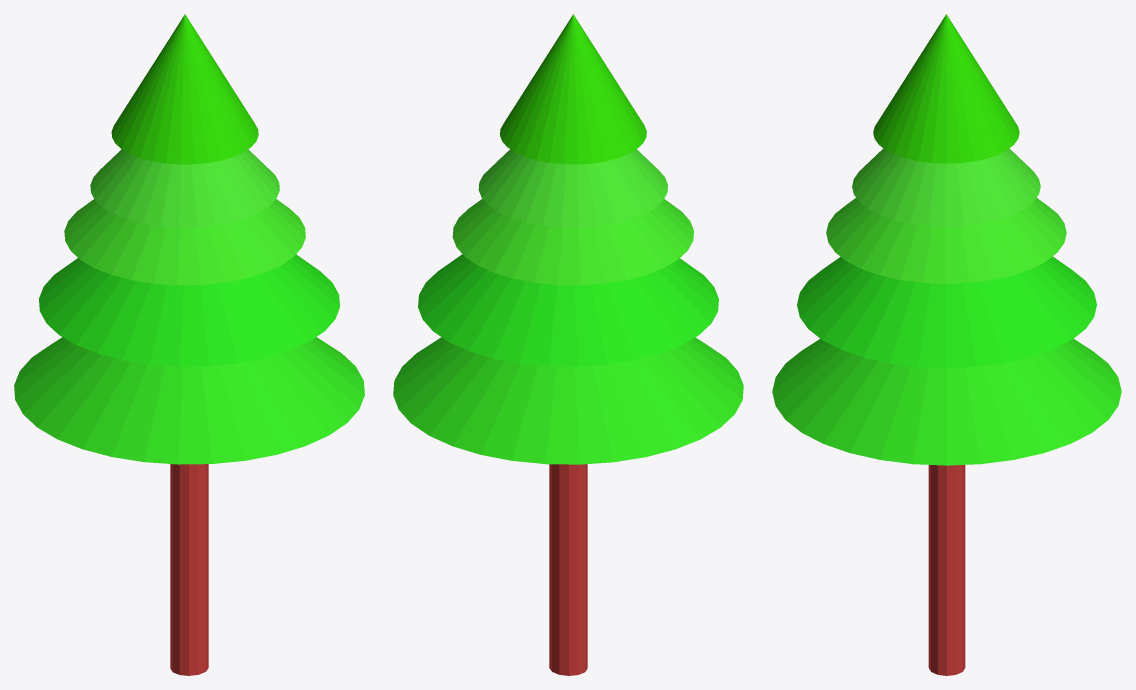
The model's file is tree1.glb.
3 views of the same model, side by side, from view 1: azimuth 30°, elevation 25°; view 2: azimuth 150°, elevation 25°; view 3: azimuth 270°, elevation 25° (orthographic).
Parts seen in each view (by area): view 1: Cone, Cone.001, Cone.002, Cone.004, Cone.003, Cylinder; view 2: Cone, Cone.001, Cone.002, Cone.004, Cone.003, Cylinder; view 3: Cone, Cone.001, Cone.002, Cone.004, Cone.003, Cylinder.
Part boxes in pixels (x1,y1,x2,y2): Cone: (14,337,364,464); Cone.001: (39,254,339,366); Cone.002: (64,199,305,285); Cone.004: (111,14,258,164); Cone.003: (90,149,279,227); Cylinder: (170,464,208,675); Cone: (393,337,743,464); Cone.001: (418,254,718,366); Cone.002: (452,199,693,285); Cone.004: (500,14,646,164); Cone.003: (478,149,667,227); Cylinder: (549,464,587,675); Cone: (772,338,1121,465); Cone.001: (797,256,1096,368); Cone.002: (826,198,1066,283); Cone.004: (873,14,1019,163); Cone.003: (852,148,1040,226); Cylinder: (928,465,965,675).
Bounding box in the file's own units: 2.83 × 5.81 × 2.83.
